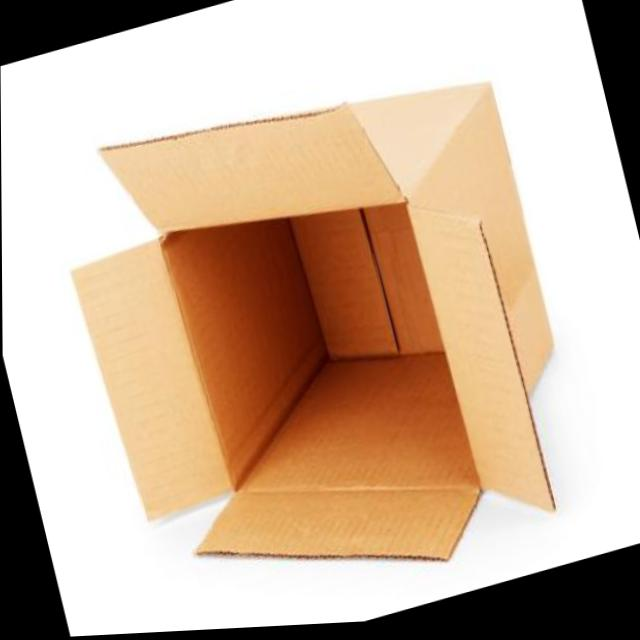box: (25, 0, 628, 639)
